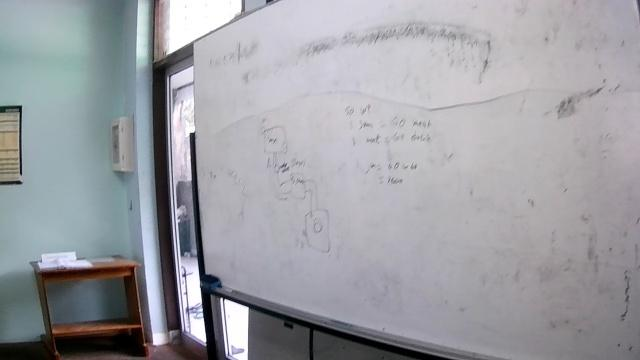Printer: (191, 0, 638, 359)
